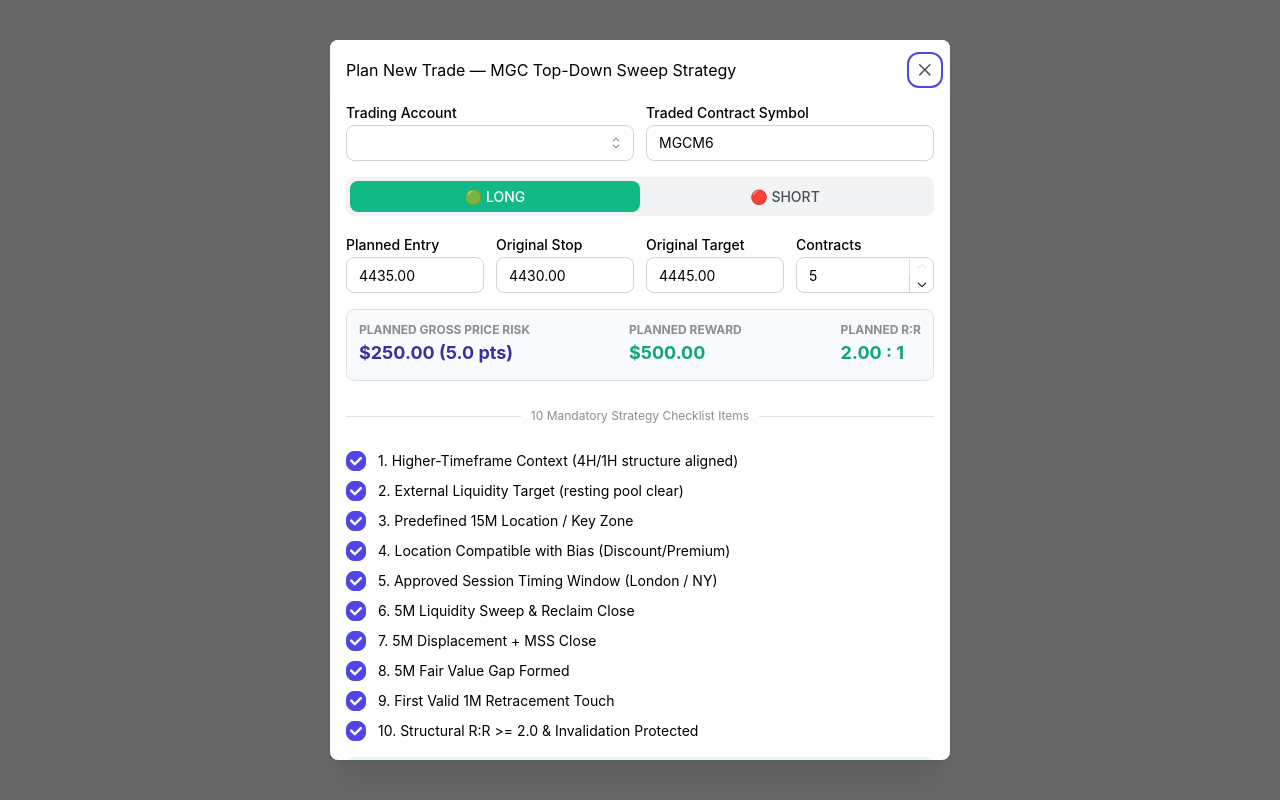
Scenario: TradePlanModal Component › marks trade plan INELIGIBLE if any mandatory checklist item is unchecked
The width and height of the screenshot is (1280, 800).
What coordinates should you click on to do the following:
click the checkbox labelled "1. Higher-Timeframe Context (4H/1H structure aligned)"
I would click on:
 (356, 462)
Its box is left=346, top=452, right=366, bottom=472.
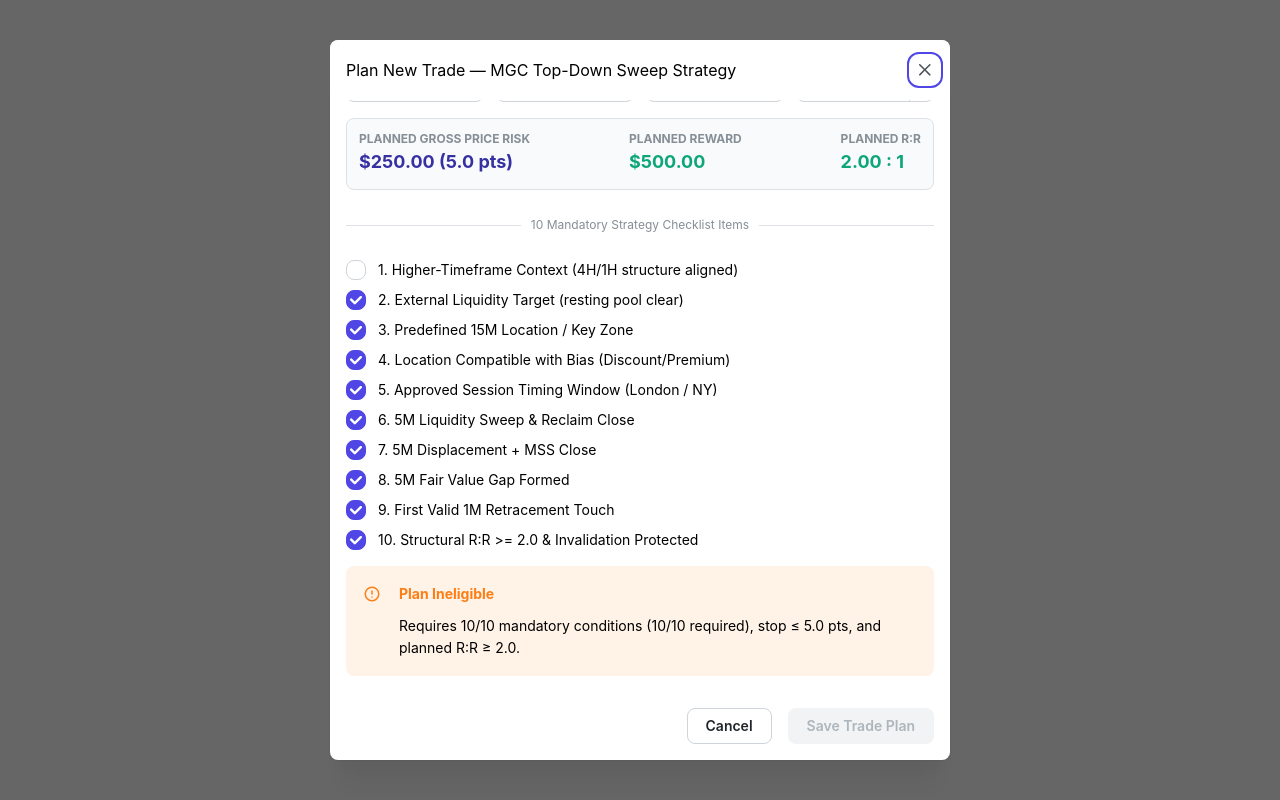
Now the checkbox labelled "1. Higher-Timeframe Context (4H/1H structure aligned)" is not checked, box left=346, top=260, right=366, bottom=280
Now the text "Plan Ineligible" is shown, box left=399, top=584, right=494, bottom=605
Now the button "Save Trade Plan" is disabled, box left=788, top=708, right=934, bottom=744
